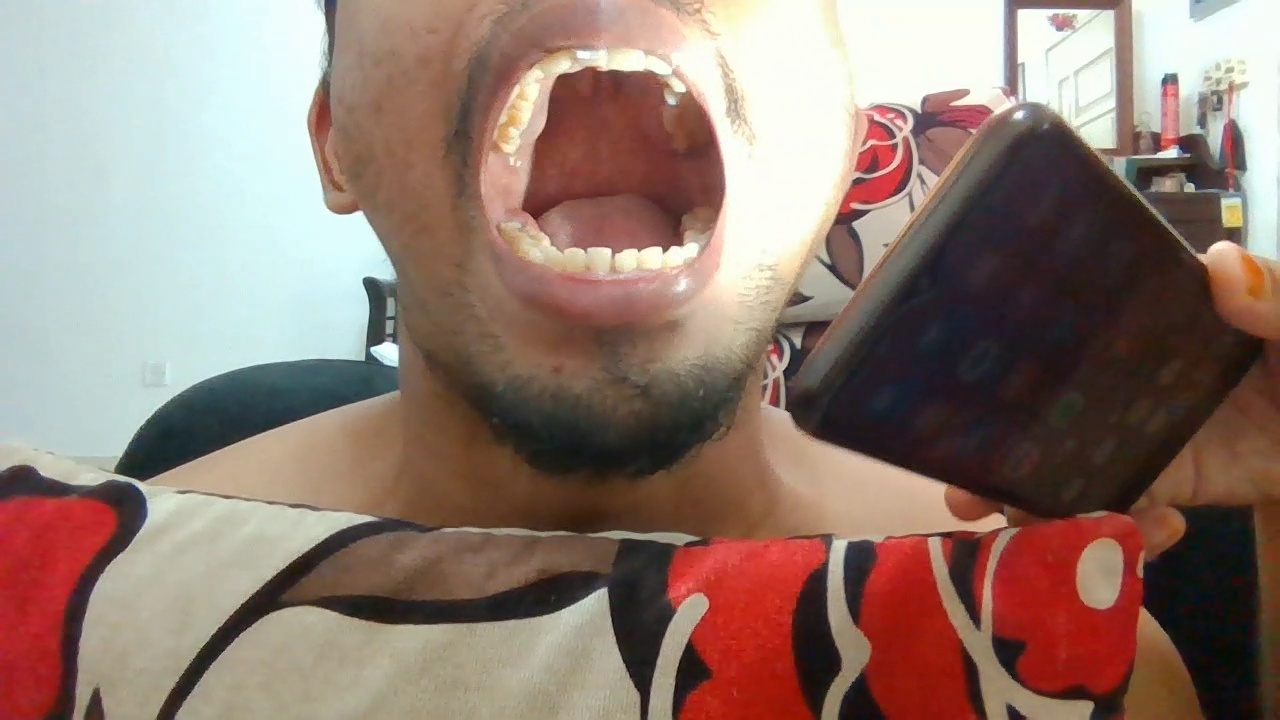1st Molar: (499, 111, 529, 129)
1st Premolar: (513, 85, 539, 101), (685, 241, 703, 261), (530, 248, 544, 265)
2nd Molar: (493, 126, 522, 143), (684, 229, 714, 242)
2nd Premolar: (504, 98, 535, 116)
3rd Molar: (680, 206, 716, 228), (497, 216, 523, 231)
Canine: (523, 65, 544, 88), (544, 248, 564, 272), (664, 245, 685, 267), (662, 75, 686, 93)
Central Incisor: (609, 46, 647, 72), (586, 245, 612, 274), (612, 248, 640, 274), (570, 47, 608, 66)
Lateral Incisor: (537, 50, 571, 72), (564, 247, 586, 274), (641, 246, 663, 270), (647, 54, 672, 74)
